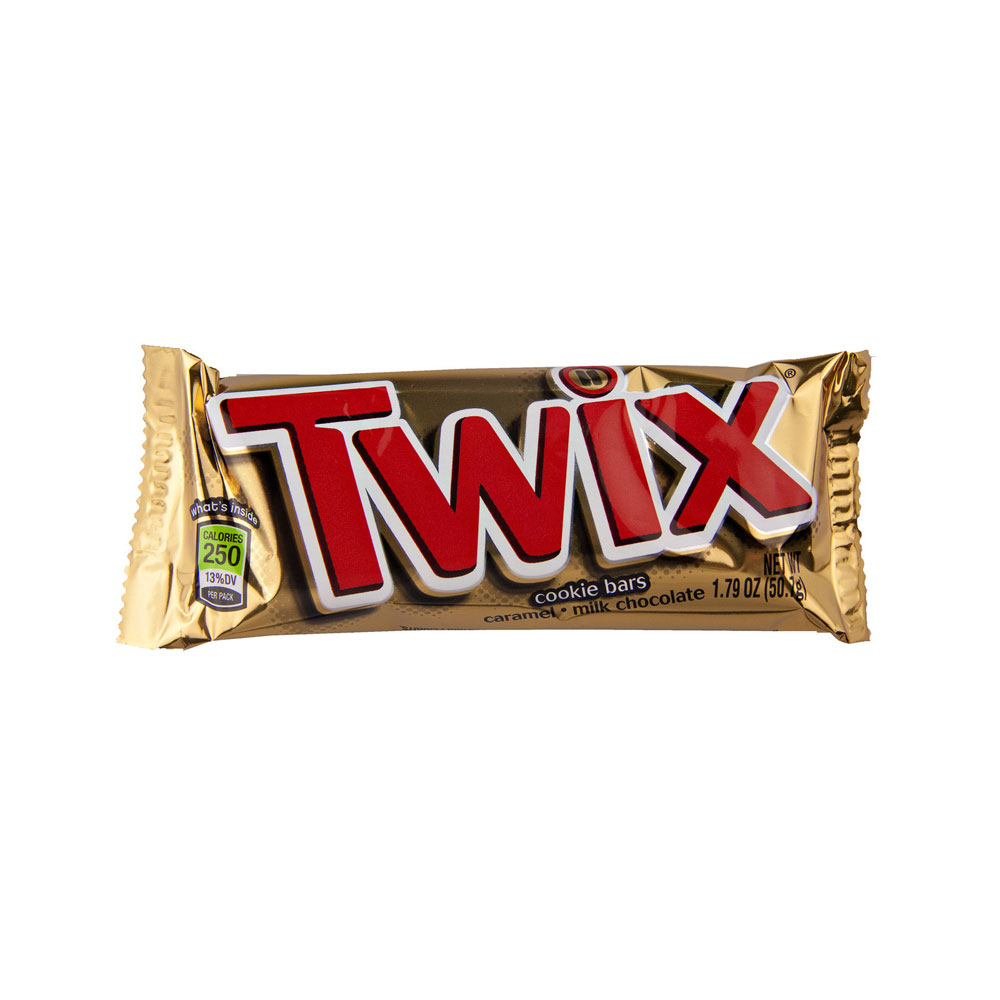twix: (106, 325, 896, 664)
